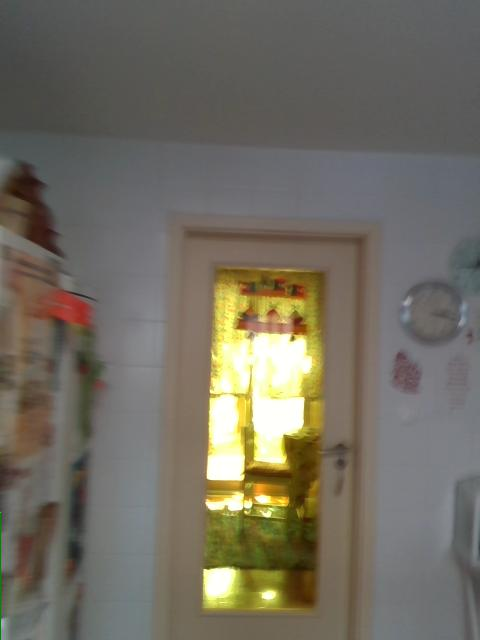door: (172, 233, 363, 637)
